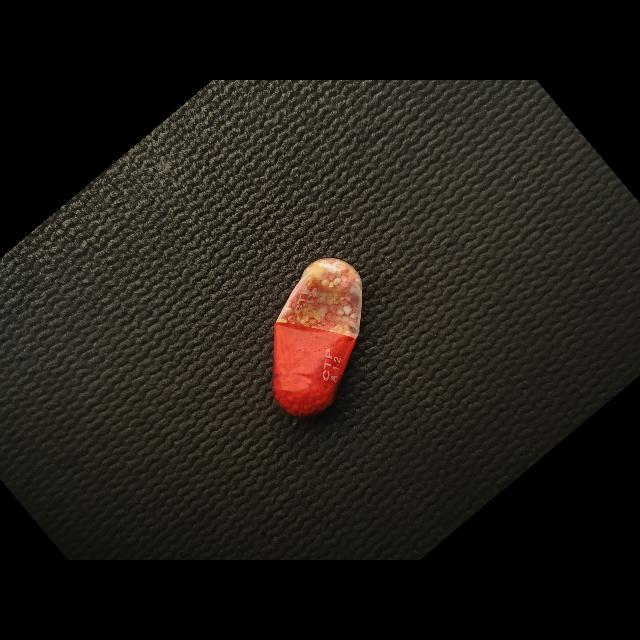Defective Capsule: (273, 258, 362, 417)
